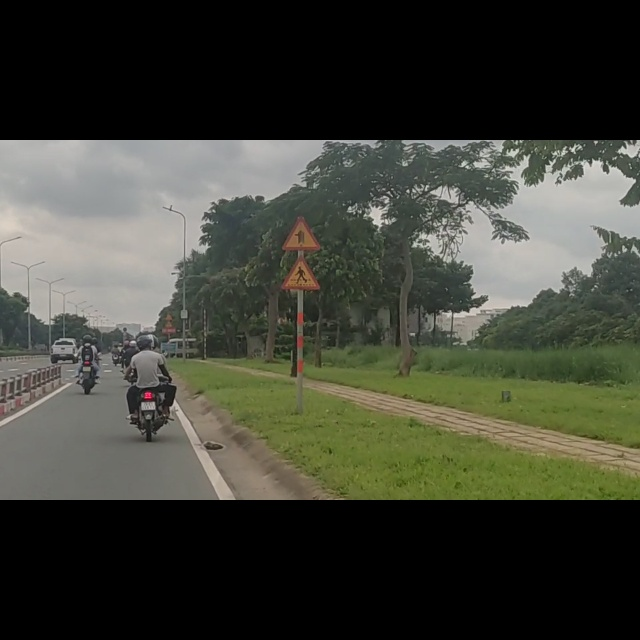bien_nguy_hiem: (281, 204, 321, 267), (282, 135, 321, 197)
